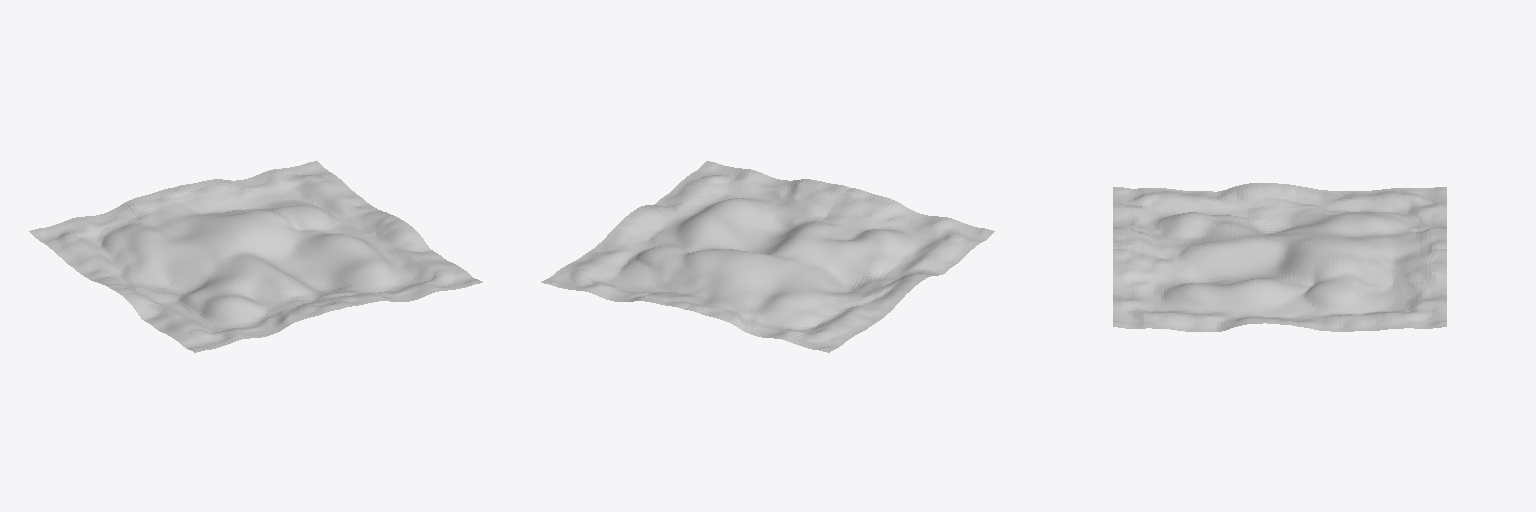
File: ground_model2.obj
3 renders of one model, left to right at view 1: azimuth 30°, elevation 25°; view 2: azimuth 150°, elevation 25°; view 3: azimuth 270°, elevation 25°, orthographic.
Parts seen in each view (by area): view 1: pPlane21; view 2: pPlane21; view 3: pPlane21.
Boxes of the visible parts, x1,y1,x2,y2 form: pPlane21: [29, 161, 482, 352]; pPlane21: [541, 161, 994, 352]; pPlane21: [1113, 183, 1446, 331].
Size of the model in its own units: 248 by 23.77 by 248.